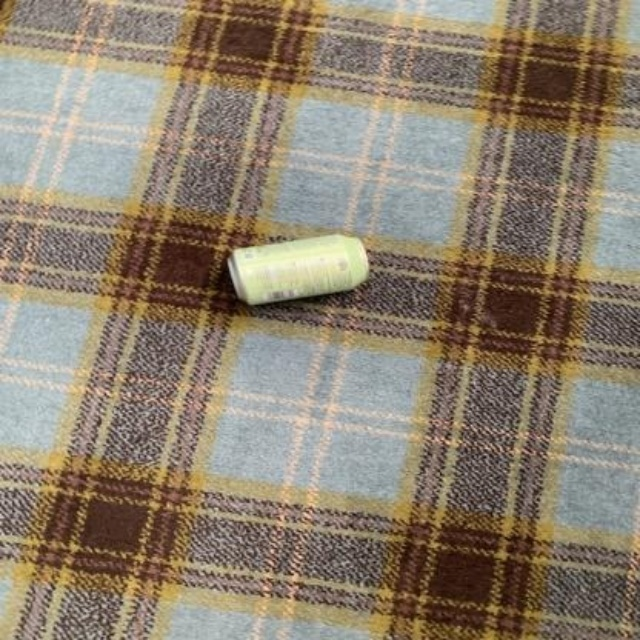trash: (228, 234, 368, 303)
